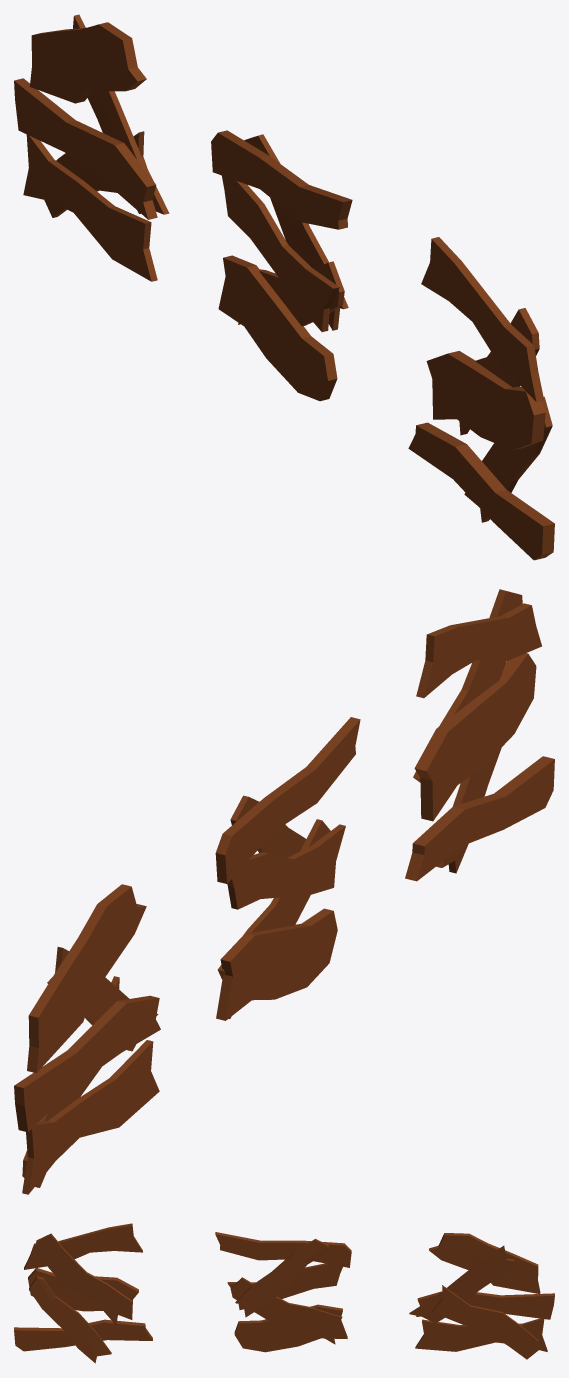
File: barricade_fracture.fbx
The picture shows the model from 3 angles, top to bottom: view 1: azimuth 30°, elevation 25°; view 2: azimuth 150°, elevation 25°; view 3: azimuth 270°, elevation 25°; orthographic projection. The views are drawn at different scales.
Parts seen in each view (by area): view 1: Barricade_Droite_Fracture, Barricade_Gauche.Fracture, Barricade_Milieu.fracture.001, Barricade_Droite_Fracture.001, Barricade_Gauche.Fracture.001, Barricade_Milieu.fracture; view 2: Barricade_Gauche.Fracture, Barricade_Droite_Fracture, Barricade_Milieu.fracture.001, Barricade_Droite_Fracture.001, Barricade_Gauche.Fracture.001, Barricade_Milieu.fracture; view 3: Barricade_Droite_Fracture.001, Barricade_Gauche.Fracture, Barricade_Droite_Fracture, Barricade_Milieu.fracture.001, Barricade_Gauche.Fracture.001, Barricade_Milieu.fracture.
Part boxes in pixels (x1,y1,x2,y2): Barricade_Droite_Fracture: (14, 22, 169, 281); Barricade_Gauche.Fracture: (408, 237, 554, 560); Barricade_Milieu.fracture.001: (211, 130, 352, 401); Barricade_Droite_Fracture.001: (48, 14, 147, 258); Barricade_Gauche.Fracture.001: (447, 261, 539, 522); Barricade_Milieu.fracture: (244, 155, 328, 392); Barricade_Gauche.Fracture: (405, 589, 554, 881); Barricade_Droite_Fracture: (14, 884, 160, 1194); Barricade_Milieu.fracture.001: (215, 717, 360, 1020); Barricade_Droite_Fracture.001: (42, 904, 134, 1160); Barricade_Gauche.Fracture.001: (436, 616, 514, 873); Barricade_Milieu.fracture: (246, 767, 317, 1000); Barricade_Droite_Fracture.001: (432, 1234, 521, 1351); Barricade_Gauche.Fracture: (14, 1223, 152, 1351); Barricade_Droite_Fracture: (409, 1233, 554, 1359); Barricade_Milieu.fracture.001: (215, 1232, 351, 1351); Barricade_Gauche.Fracture.001: (42, 1227, 117, 1363); Barricade_Milieu.fracture: (252, 1240, 320, 1352).
Size of the model in its own units: 43.59 by 371 by 1349.
